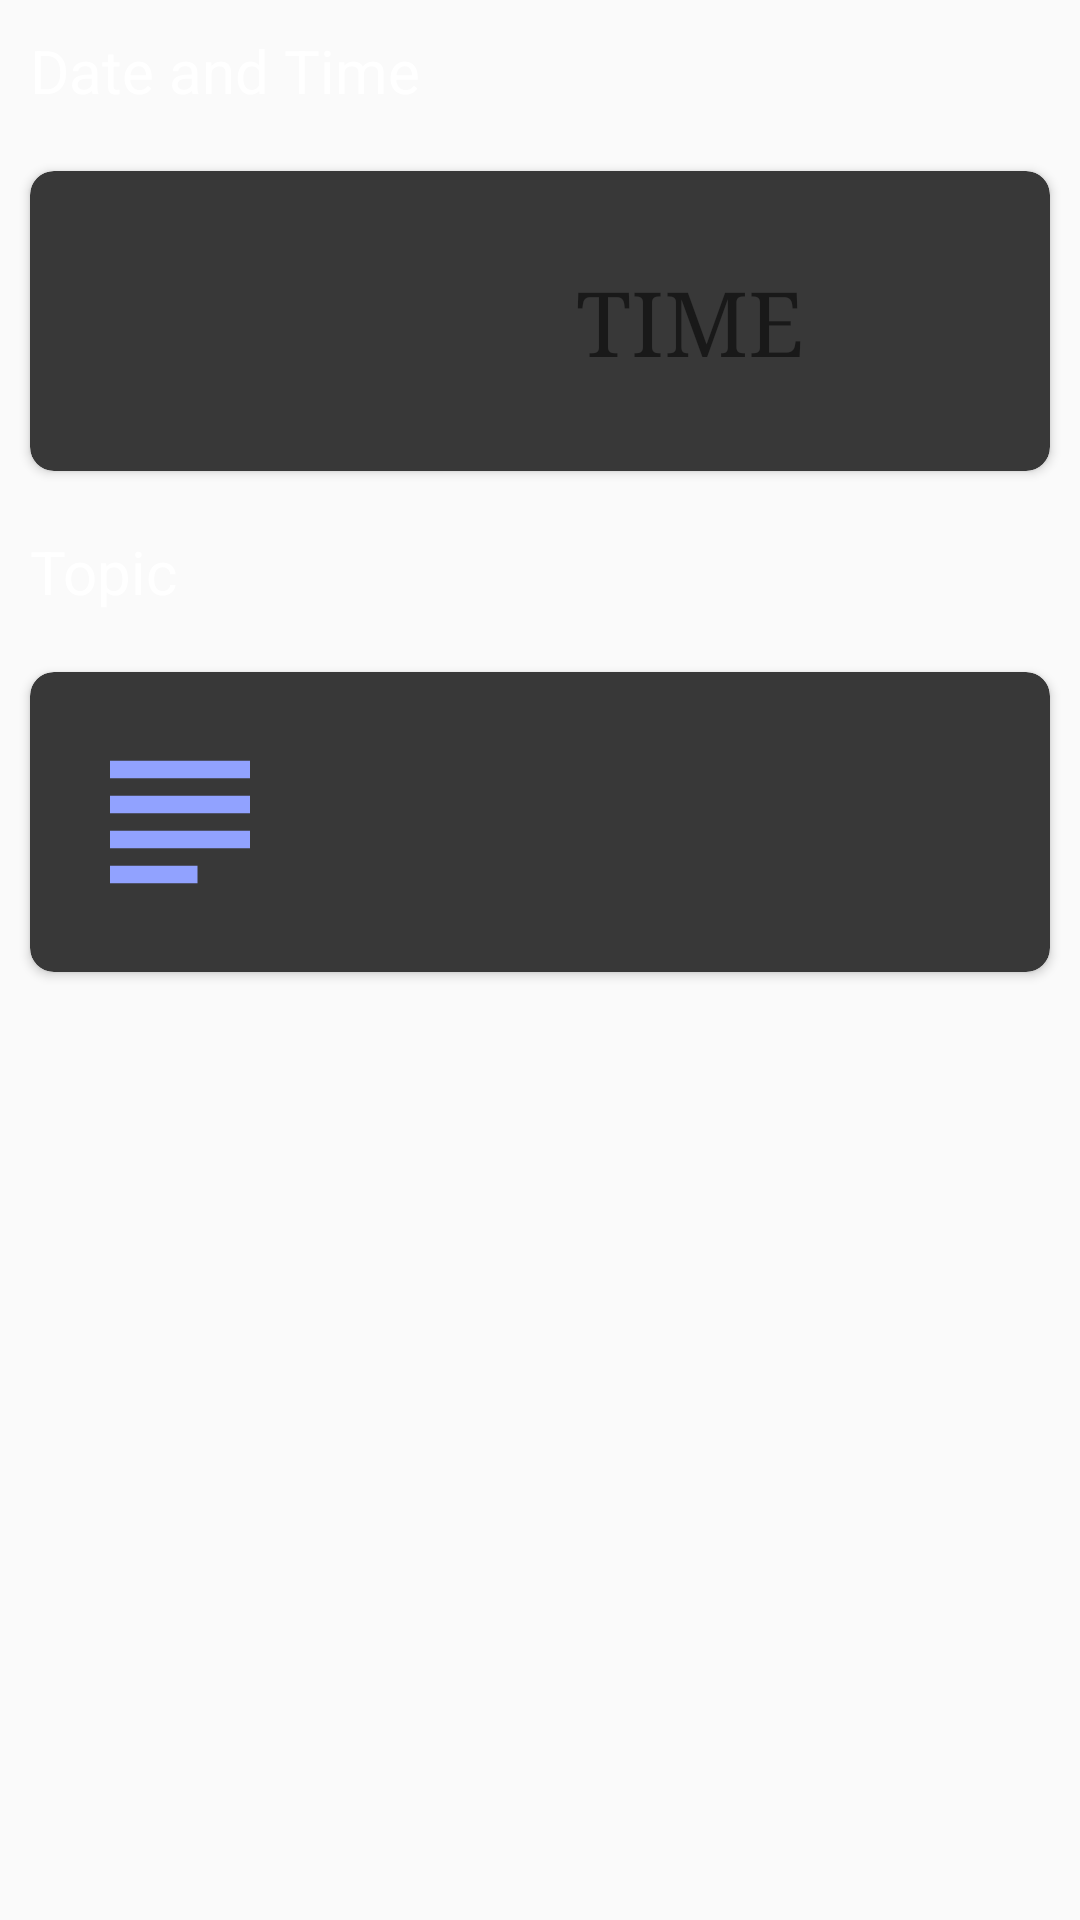

Named icons in this screenshot (1080 × 1920) and their centers, [x,y]:
subject: [180,822]
